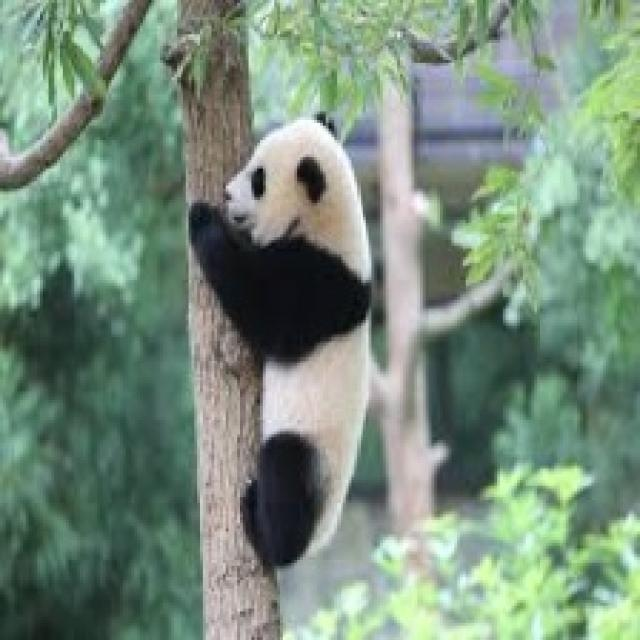animal: (136, 124, 466, 556)
